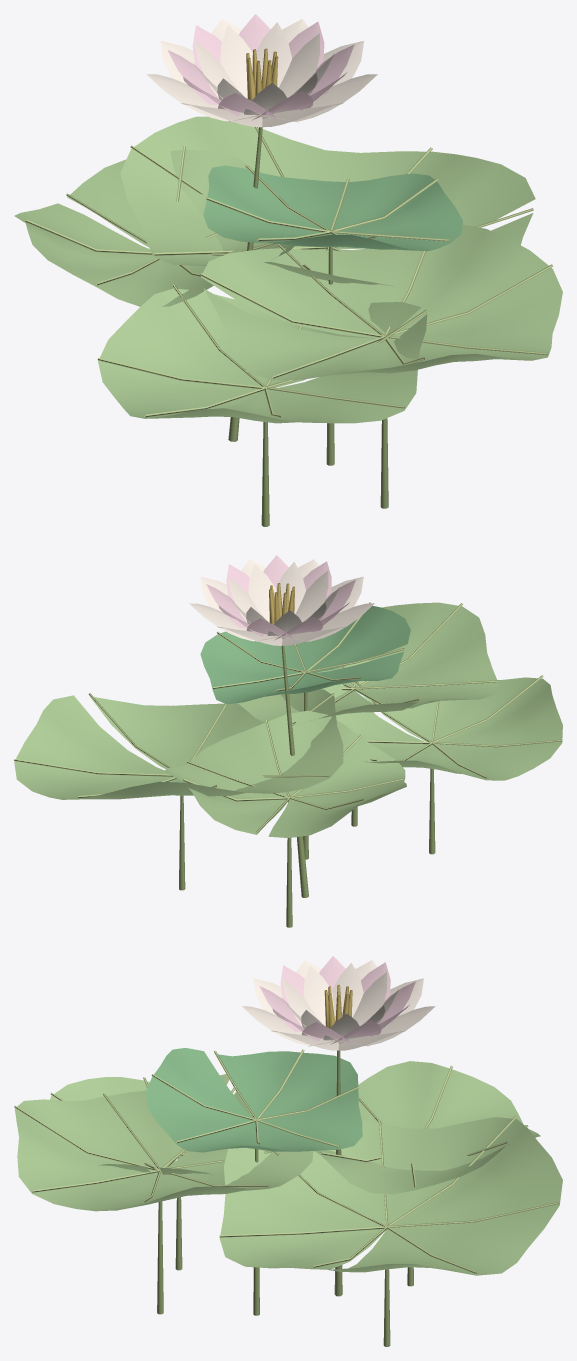
Rendered from study_lotus_2.glb.
The picture shows the model from 3 angles, top to bottom: view 1: azimuth 30°, elevation 25°; view 2: azimuth 150°, elevation 25°; view 3: azimuth 270°, elevation 25°; orthographic projection. The views are drawn at different scales.
Parts seen in each view (by area): view 1: study_lotus_2_LakeLeafLight, study_lotus_2_LakeLeaf, study_lotus_2_LakePetal, study_lotus_2_LakeVein, study_lotus_2_LakePink, study_lotus_2_LakeReed, study_lotus_2_LakePollen; view 2: study_lotus_2_LakeLeafLight, study_lotus_2_LakeLeaf, study_lotus_2_LakePetal, study_lotus_2_LakeVein, study_lotus_2_LakePink, study_lotus_2_LakeReed, study_lotus_2_LakePollen; view 3: study_lotus_2_LakeLeafLight, study_lotus_2_LakeLeaf, study_lotus_2_LakePetal, study_lotus_2_LakeVein, study_lotus_2_LakePink, study_lotus_2_LakeReed, study_lotus_2_LakePollen.
Boxes of the visible parts, <box> form: study_lotus_2_LakeLeafLight: <box>14,116,562,423</box>; study_lotus_2_LakeLeaf: <box>203,165,462,251</box>; study_lotus_2_LakePetal: <box>146,19,377,127</box>; study_lotus_2_LakeVein: <box>25,127,553,417</box>; study_lotus_2_LakePink: <box>167,14,354,120</box>; study_lotus_2_LakeReed: <box>228,127,388,526</box>; study_lotus_2_LakePollen: <box>246,48,278,116</box>; study_lotus_2_LakeLeafLight: <box>14,602,562,837</box>; study_lotus_2_LakeLeaf: <box>200,605,410,704</box>; study_lotus_2_LakePetal: <box>189,559,374,645</box>; study_lotus_2_LakeVein: <box>14,602,562,833</box>; study_lotus_2_LakePink: <box>206,555,355,640</box>; study_lotus_2_LakeReed: <box>179,645,435,927</box>; study_lotus_2_LakePollen: <box>269,583,294,637</box>; study_lotus_2_LakeLeafLight: <box>15,1061,562,1275</box>; study_lotus_2_LakeLeaf: <box>145,1048,362,1152</box>; study_lotus_2_LakePetal: <box>242,960,435,1050</box>; study_lotus_2_LakeVein: <box>14,1049,559,1273</box>; study_lotus_2_LakePink: <box>259,956,415,1044</box>; study_lotus_2_LakeReed: <box>157,1050,413,1346</box>; study_lotus_2_LakePollen: <box>324,984,352,1041</box>.
Bounding box in the file's own units: 1.75 × 1.25 × 1.96.
